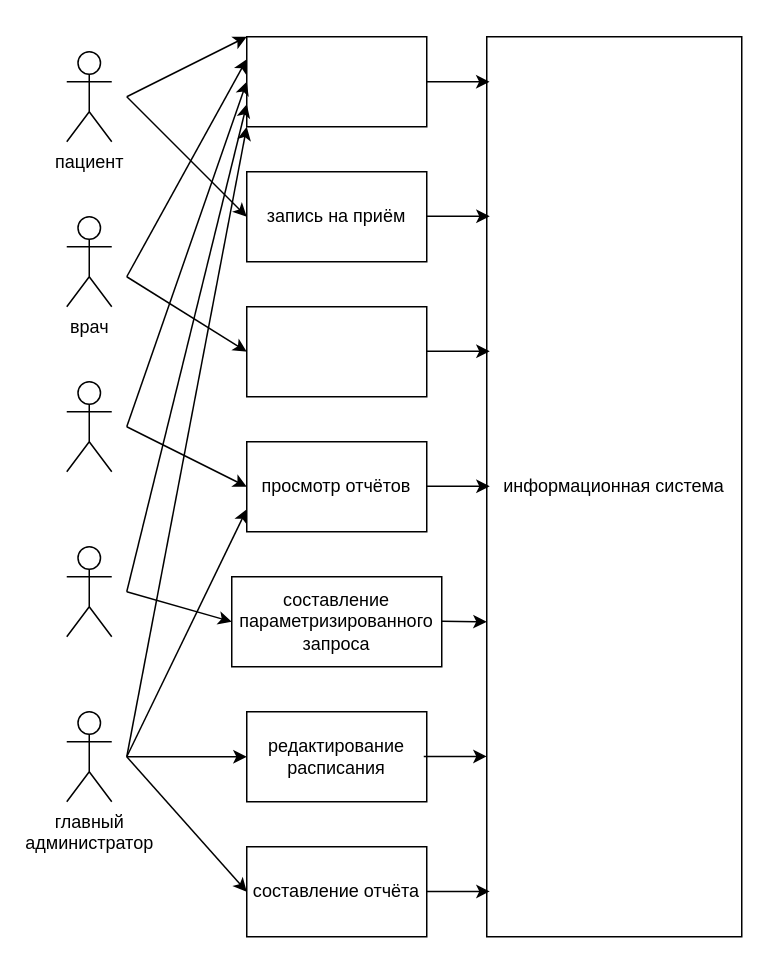
This 768x963 diagram has some shape labels left out. Each missing label, with the box of its shape:
авторизация: (245, 35, 427, 127)
главный врач: (65, 380, 112, 472)
проведение приёма: (245, 305, 427, 397)
регистратура: (65, 545, 112, 637)
